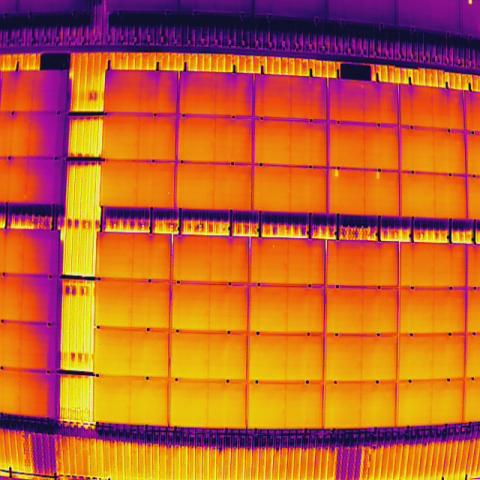fault: (374, 170, 382, 182), (334, 168, 340, 178)
